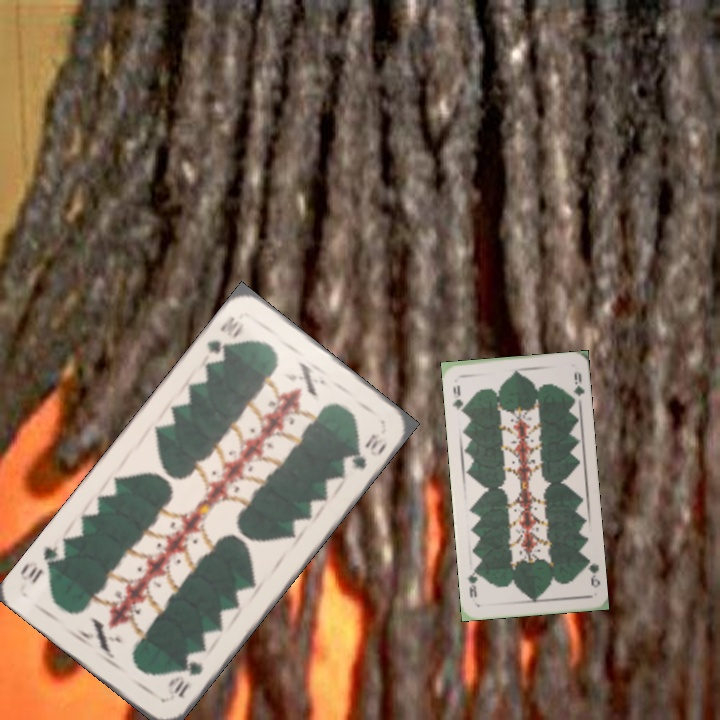G10: (202, 312, 247, 366), (167, 657, 206, 703)
G9: (581, 554, 603, 590), (448, 381, 467, 416)
